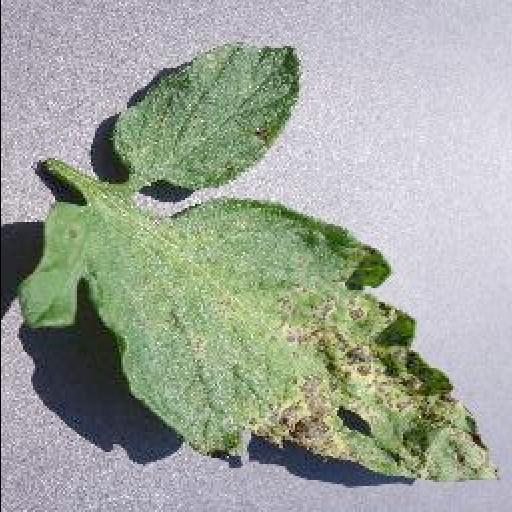disease_tomato: (18, 193, 506, 483)
